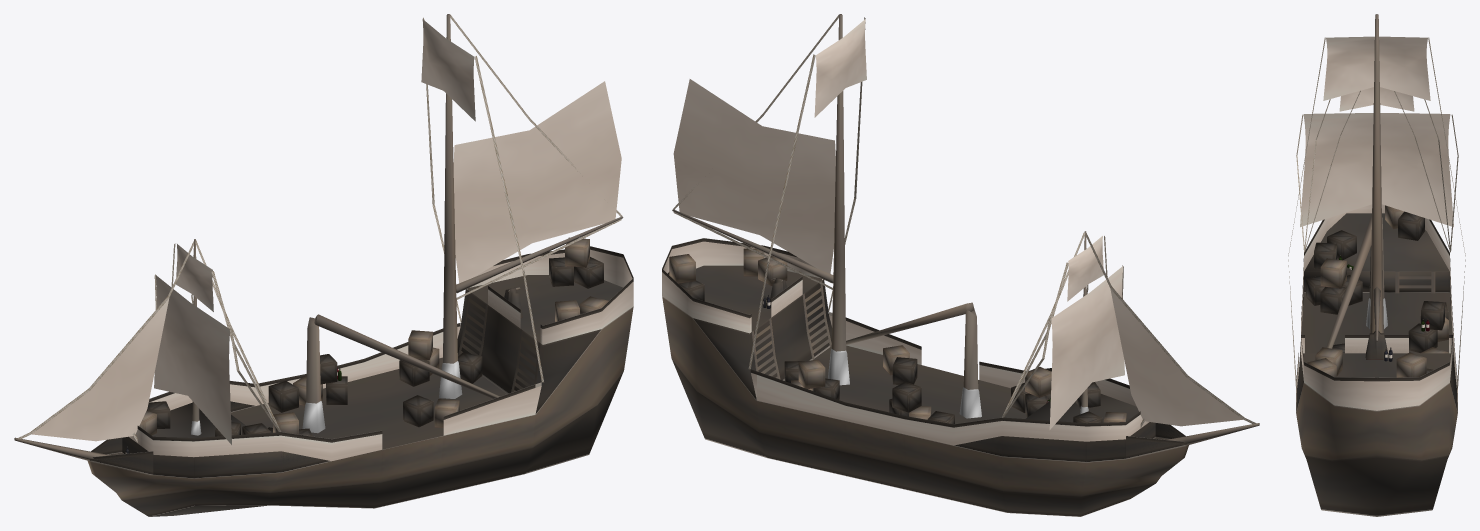
File: Crippled_Pirate_Ship_DS.fbx
3 views of the same model, side by side, from view 1: azimuth 30°, elevation 25°; view 2: azimuth 150°, elevation 25°; view 3: azimuth 270°, elevation 25° (orthographic). The views are drawn at different scales.
Visible parts, largest first — view 1: Pirate Ship (Crippled); view 2: Pirate Ship (Crippled); view 3: Pirate Ship (Crippled).
Part boxes in pixels (<box>): Pirate Ship (Crippled): <box>14,14,633,516</box>; Pirate Ship (Crippled): <box>662,14,1259,516</box>; Pirate Ship (Crippled): <box>1288,14,1465,516</box>.
Size of the model in its own units: 3437 by 2411 by 879.
1 material, 1 textured.
